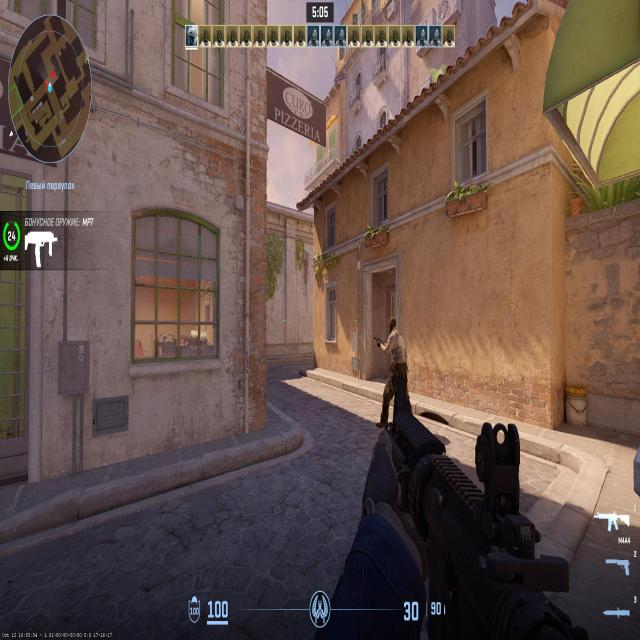T: (388, 319, 404, 384)
T_heat: (391, 322, 395, 332)
